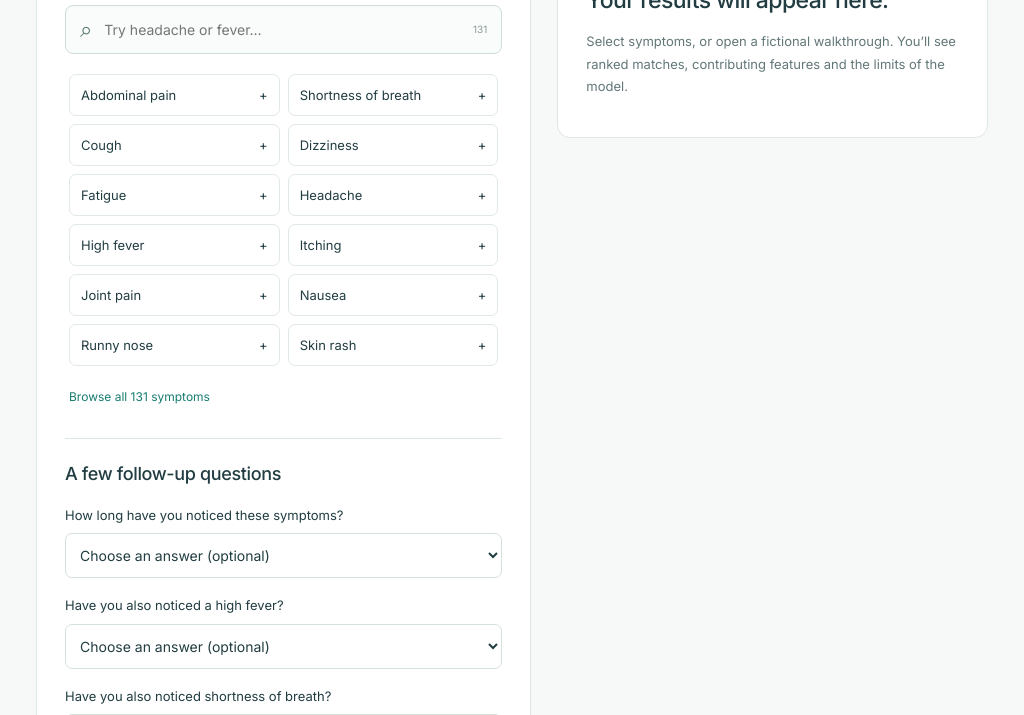
Test case: health workspace › starts with common symptoms while keeping the full vocabulary searchable
(page scrolled)
Click the button "Browse all 131 symptoms" at coordinates (139, 396), box [69,378,210,415]
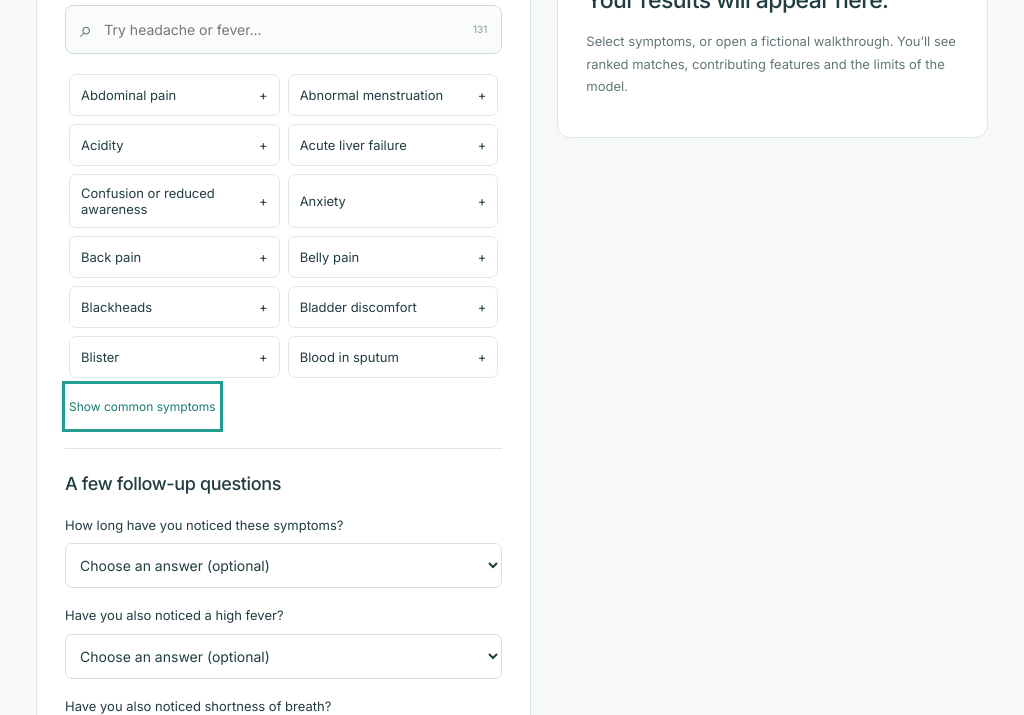
Click the button "Show common symptoms" at coordinates (142, 406), box [69,388,216,425]
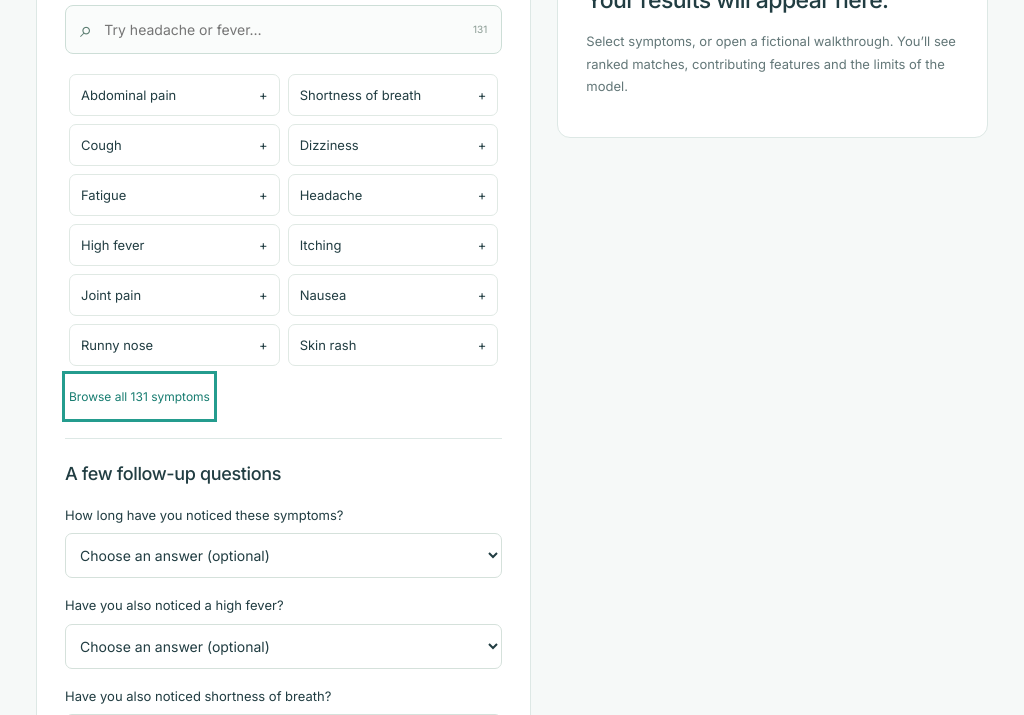
Type "scaly skin" into the field labelled "Search symptoms" at coordinates (283, 29), box [104,18,461,41]
(page scrolled)
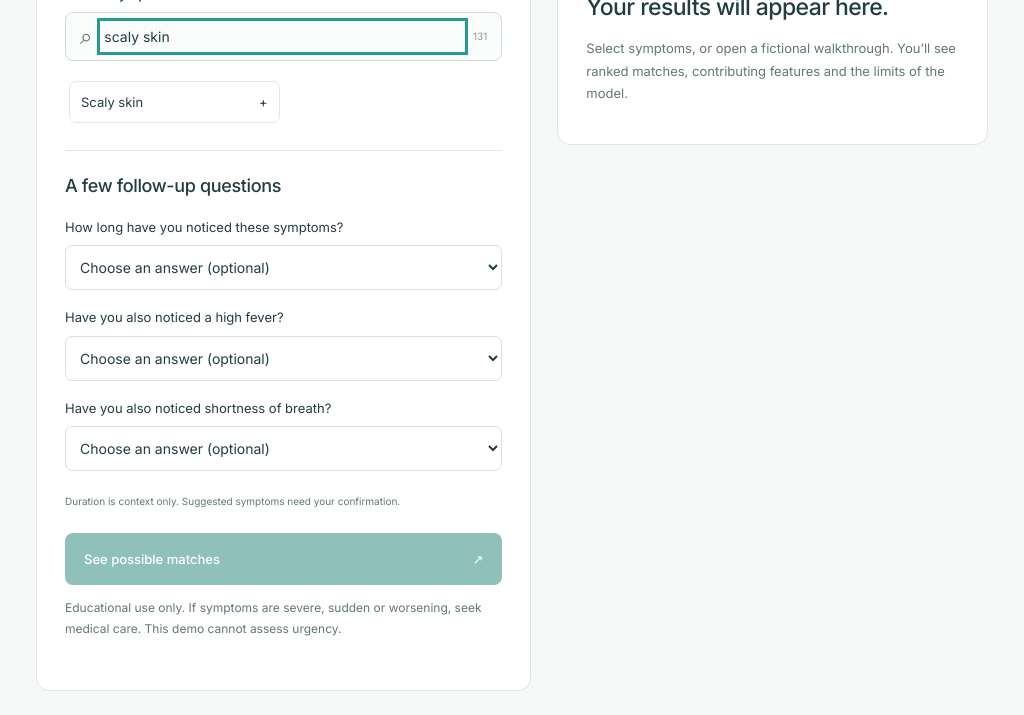
Expected: the button named "Scaly skin+" is shown, [69,81,280,123]
